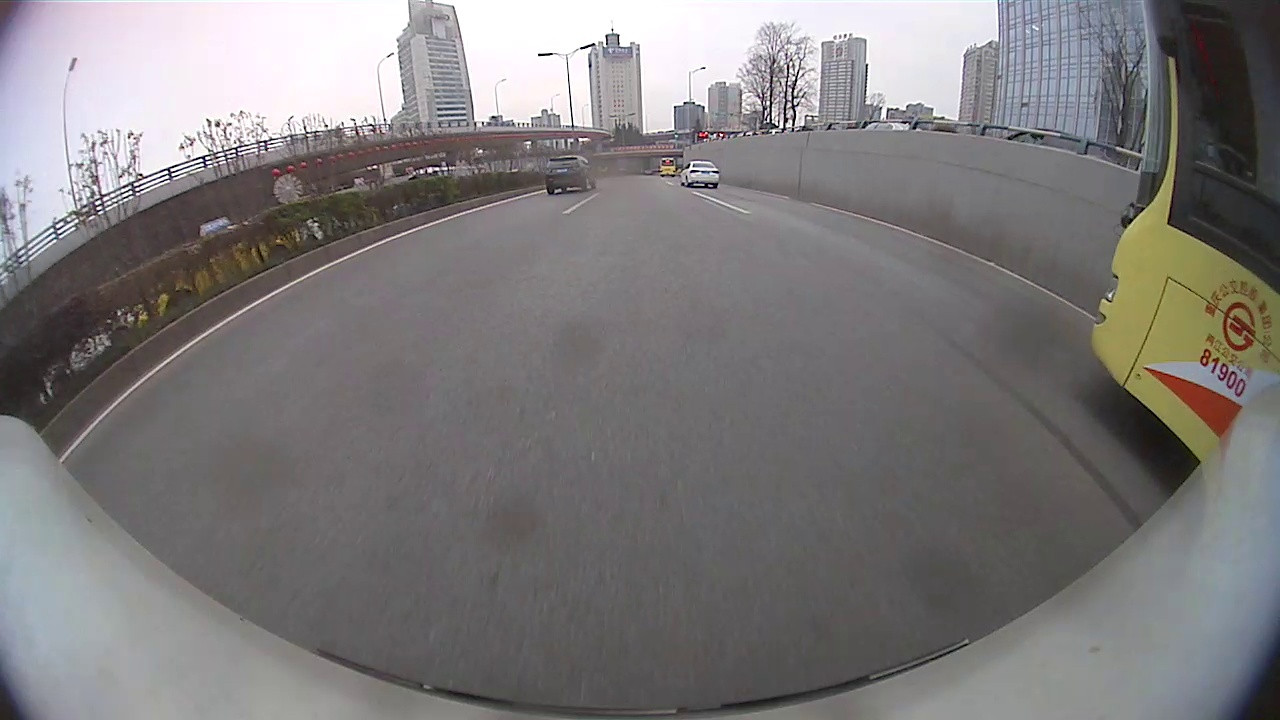bus: (1088, 1, 1279, 464)
car: (543, 155, 600, 197), (678, 156, 722, 189)
